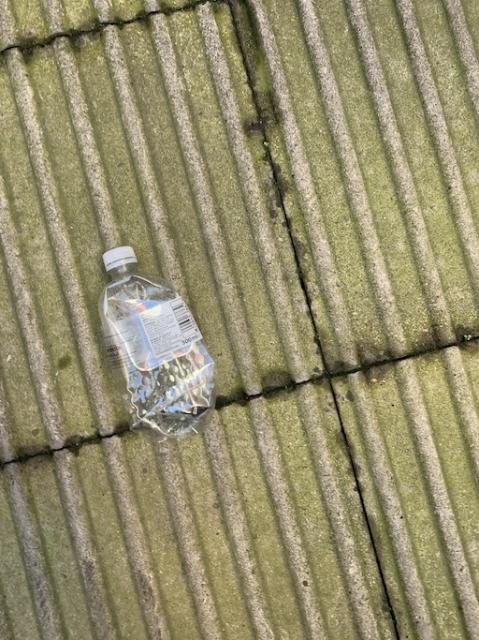plastic: (98, 246, 214, 438)
